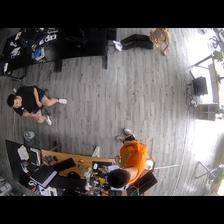fall: (111, 28, 173, 58)
normal: (6, 83, 66, 129), (110, 125, 151, 188)
